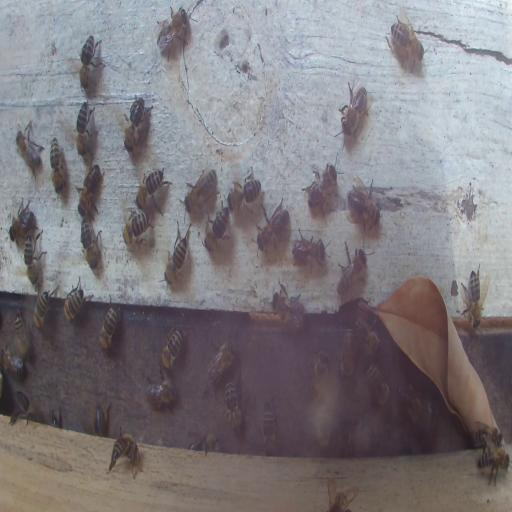nonpollenbee: (337, 77, 372, 145), (388, 10, 425, 69), (154, 5, 192, 59), (348, 177, 381, 234), (301, 160, 337, 212), (165, 219, 192, 286), (336, 240, 367, 298), (136, 166, 172, 214), (256, 198, 288, 252), (15, 120, 44, 179), (121, 95, 150, 154), (291, 228, 329, 273), (108, 430, 141, 478), (76, 163, 104, 219), (78, 34, 105, 92), (271, 284, 305, 330), (460, 266, 484, 330), (397, 381, 427, 430), (227, 172, 261, 215), (185, 168, 216, 214), (207, 338, 236, 384), (352, 315, 381, 361), (223, 379, 247, 434), (478, 445, 510, 486), (202, 211, 230, 257), (98, 296, 121, 352), (24, 233, 46, 288), (63, 276, 88, 324), (9, 198, 36, 242), (80, 225, 103, 274), (121, 210, 152, 246), (160, 326, 184, 372), (366, 361, 391, 405), (311, 351, 330, 408), (75, 99, 93, 157), (144, 376, 176, 408), (339, 326, 356, 380), (49, 136, 64, 191), (32, 288, 51, 331), (11, 390, 34, 425), (472, 422, 502, 447), (1, 349, 26, 379), (14, 308, 29, 358), (262, 401, 274, 451), (202, 434, 220, 454)
pollenbee: (92, 402, 111, 436)
